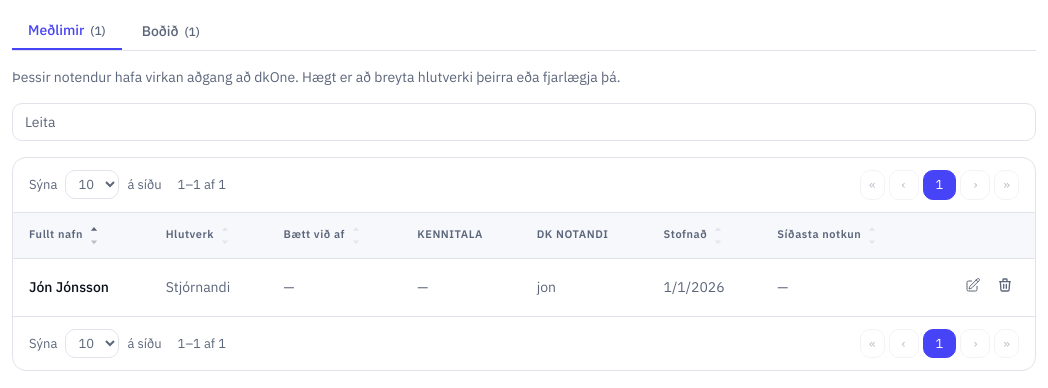
DkOneUserTable › shows invited user when switching to Boðið tab
Click the button "Boðið(1)". click: (171, 31)
box: [126, 12, 216, 50]
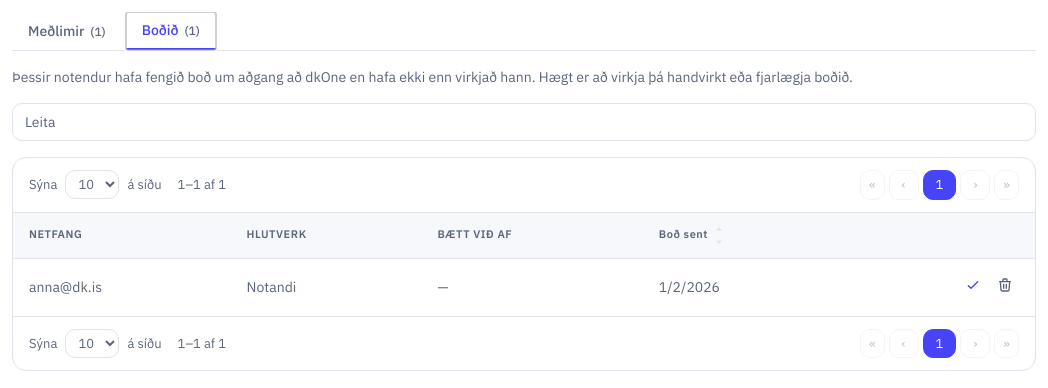
Result: the text "anna@dk.is" is shown at [13, 258, 231, 316]
